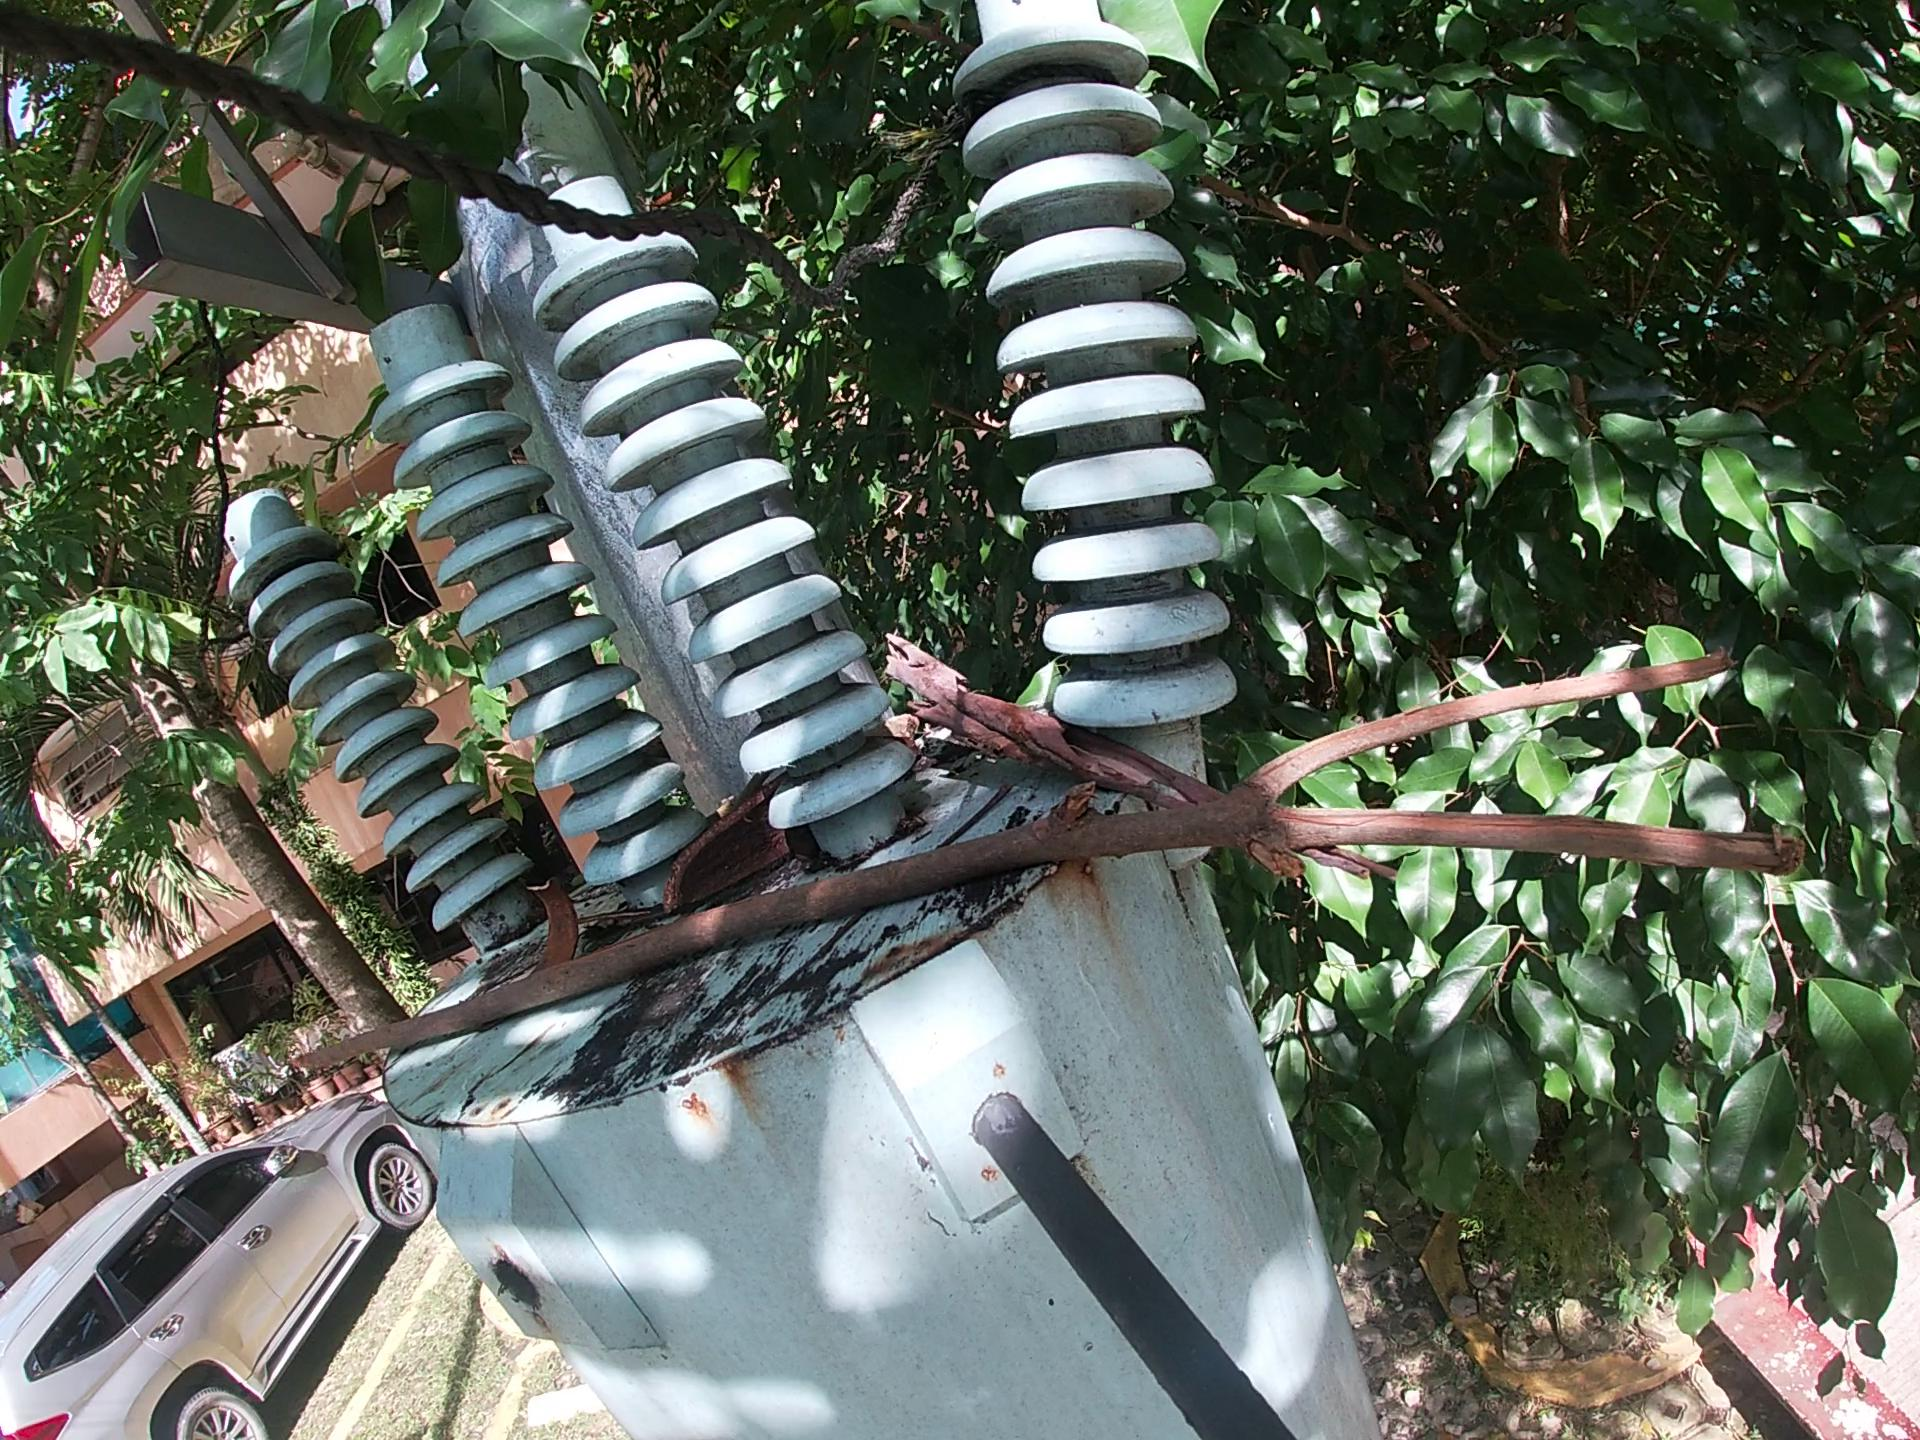mahogany fruit: (655, 781, 795, 921), (517, 873, 588, 973)
tree branch: (274, 644, 1820, 1097), (874, 628, 1415, 908)
